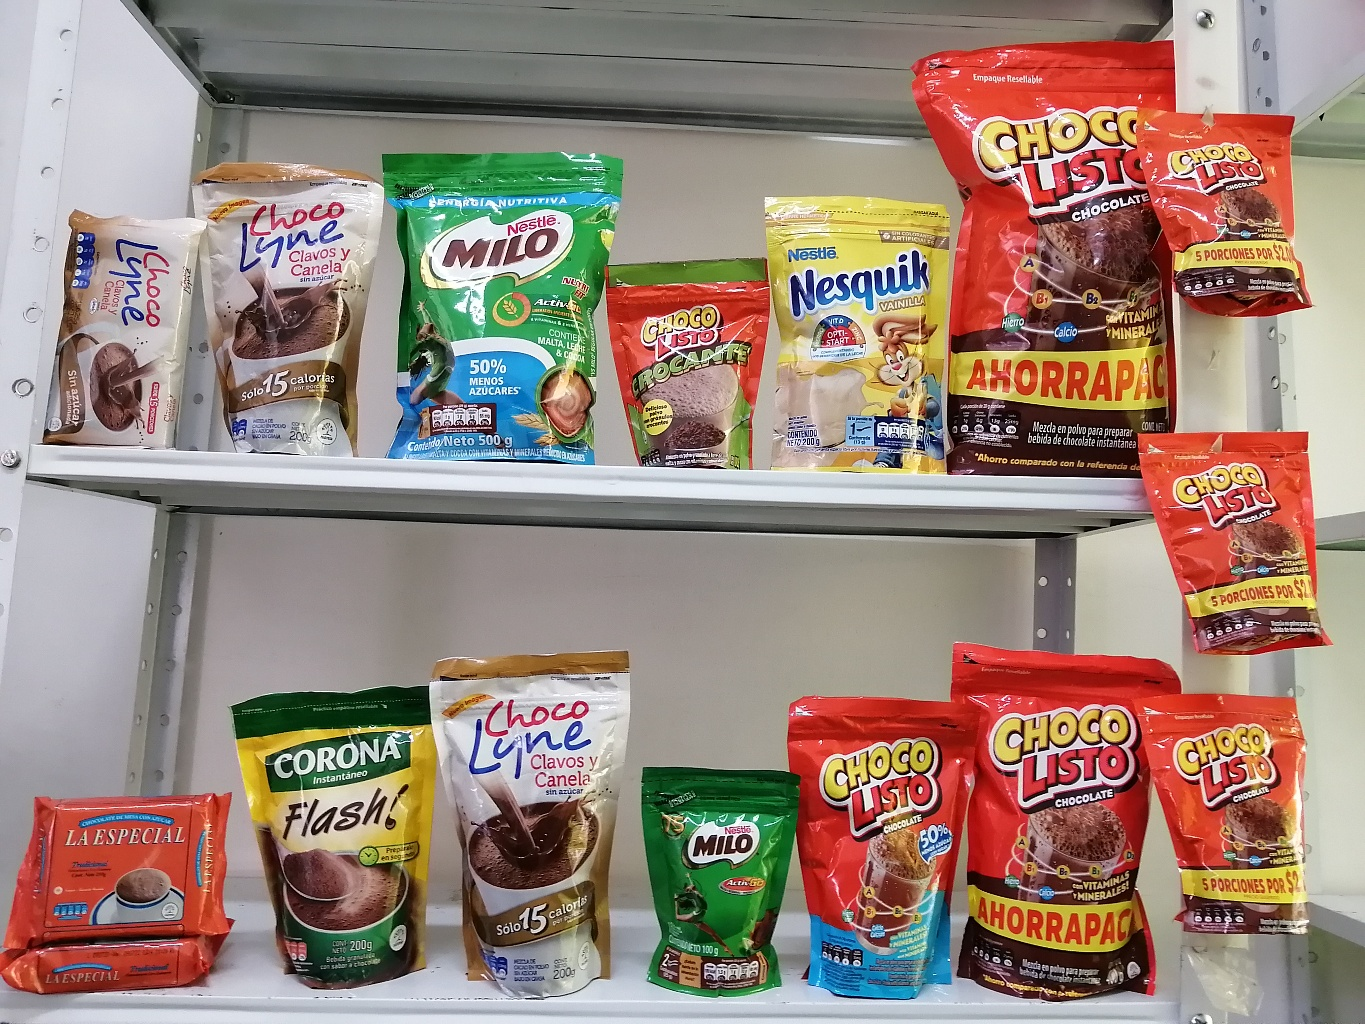COL0170102DYP10000: (599, 243, 784, 466)
COL0170103DYP1,500: (910, 29, 1188, 487)
COL0170103DYP10000: (1142, 421, 1335, 670)
COL0170103DYP40000: (937, 636, 1180, 999)
COL0170104DYP20000: (786, 688, 962, 999)
COL0170203DYP10000: (641, 762, 798, 1006)
COL0170205DYP50000: (381, 146, 618, 463)
COL0170306DYP20000: (760, 190, 959, 490)
